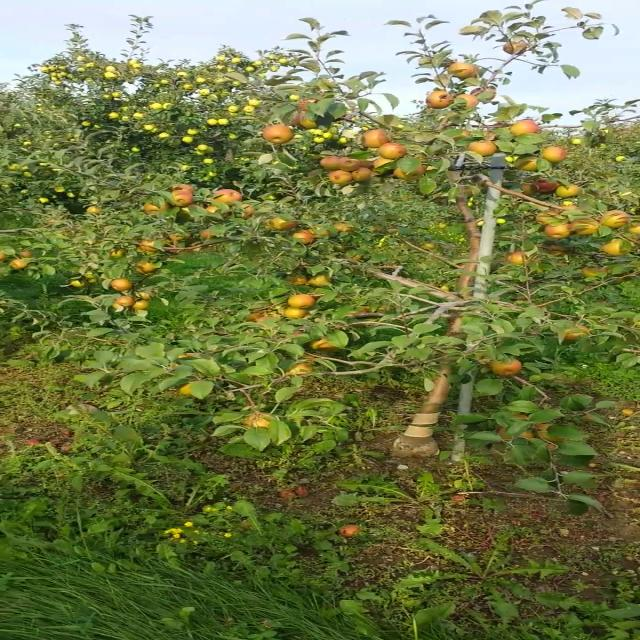apple: (495, 424, 536, 442), (535, 423, 566, 443), (263, 125, 293, 143), (604, 210, 631, 230), (378, 141, 407, 159), (362, 130, 390, 148), (602, 240, 633, 256), (308, 337, 341, 352), (492, 358, 522, 374), (265, 217, 299, 231), (563, 324, 589, 342), (545, 222, 574, 238), (210, 189, 242, 203), (396, 164, 423, 180), (507, 121, 537, 135), (533, 178, 561, 193), (536, 211, 564, 226), (451, 63, 477, 79), (573, 217, 599, 233), (170, 190, 194, 207), (469, 142, 498, 156), (427, 92, 452, 108), (542, 146, 567, 162), (243, 412, 269, 427), (338, 156, 362, 172), (289, 295, 316, 309), (502, 42, 528, 56), (306, 273, 332, 287), (203, 205, 229, 218), (110, 278, 134, 292), (469, 88, 497, 100), (304, 227, 332, 239), (290, 110, 308, 128), (580, 268, 612, 278), (329, 172, 355, 184), (547, 244, 573, 256), (351, 167, 373, 181), (292, 229, 313, 243), (455, 94, 479, 106), (170, 353, 188, 369), (517, 158, 537, 172), (138, 239, 158, 253), (297, 98, 317, 112), (239, 203, 256, 219), (143, 202, 170, 212), (283, 307, 305, 319), (507, 252, 529, 264), (113, 296, 135, 308), (300, 114, 318, 128), (556, 185, 576, 197), (172, 184, 196, 194), (284, 275, 308, 285), (319, 157, 338, 169), (134, 262, 156, 272), (332, 222, 354, 232), (290, 364, 311, 374), (522, 182, 538, 195), (198, 227, 215, 239), (247, 312, 267, 322), (135, 290, 155, 300), (177, 382, 191, 396), (10, 258, 26, 270), (133, 299, 151, 309), (374, 157, 392, 167), (110, 248, 127, 258), (167, 233, 188, 241), (351, 307, 371, 315), (361, 159, 375, 169), (556, 206, 578, 212), (17, 250, 33, 258), (629, 224, 639, 234), (510, 414, 529, 418), (1, 252, 8, 261), (461, 130, 471, 136)
